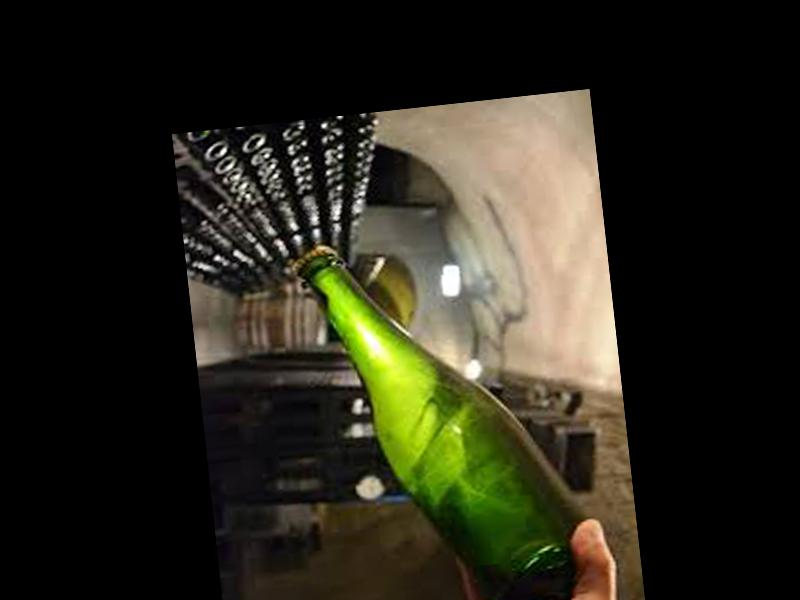Beer: (285, 218, 606, 600)
